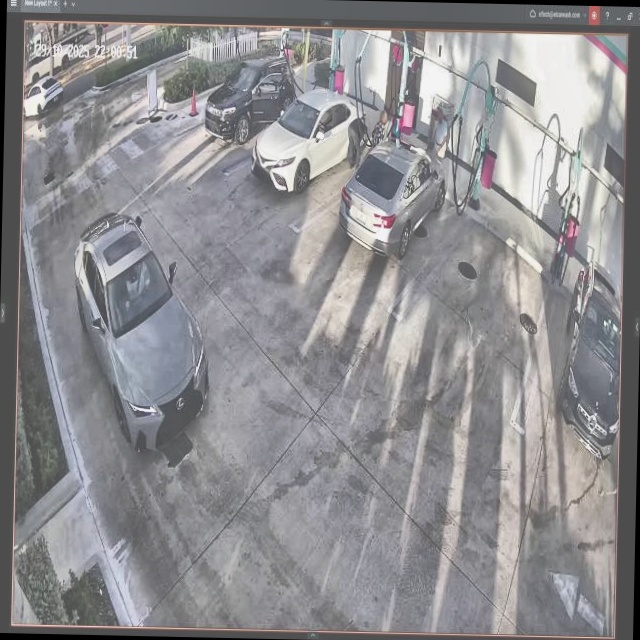Car: (73, 213, 214, 458), (340, 140, 446, 258), (255, 86, 369, 193), (205, 56, 298, 145)
